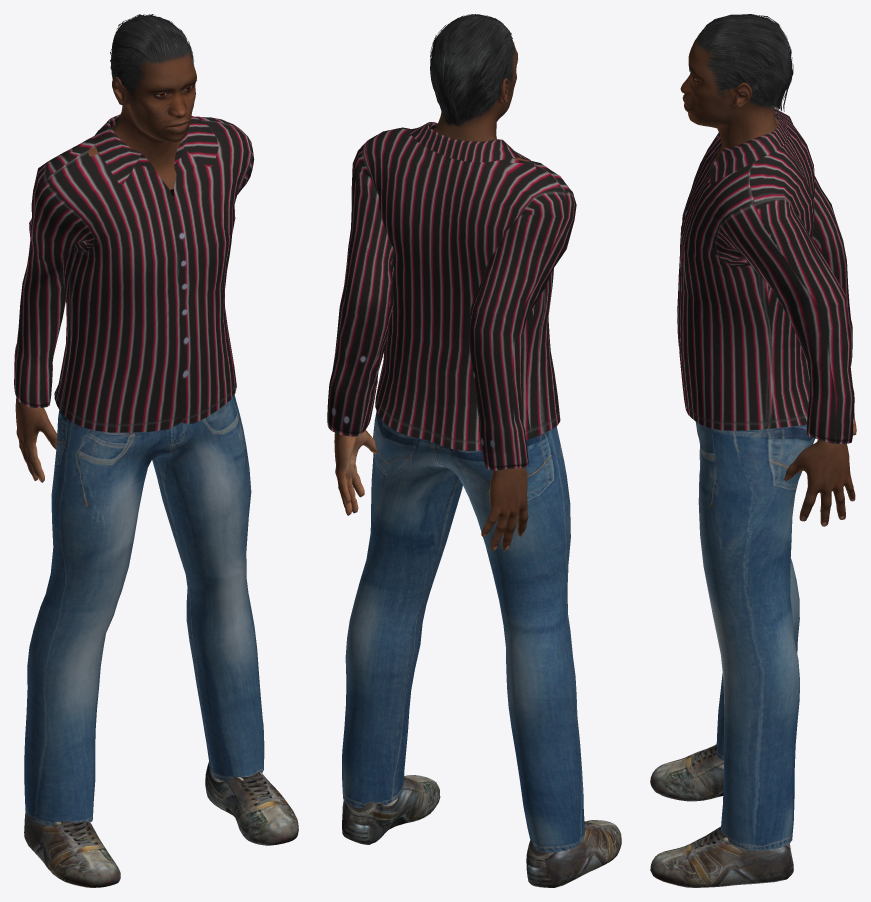
The model's file is civilian_man.glb.
3 renders of one model, left to right at view 1: azimuth 30°, elevation 25°; view 2: azimuth 150°, elevation 25°; view 3: azimuth 270°, elevation 25°, orthographic.
Parts seen in each view (by area): view 1: civilian_man.male_casualsuit03, civilian_man.body, civilian_man.shoes02, civilian_man.short04; view 2: civilian_man.male_casualsuit03, civilian_man.short04, civilian_man.shoes02, civilian_man.body; view 3: civilian_man.male_casualsuit03, civilian_man.body, civilian_man.shoes02, civilian_man.short04.
Part boxes in pixels (<box>): civilian_man.male_casualsuit03: <box>14,114,264,825</box>; civilian_man.body: <box>15,51,196,482</box>; civilian_man.shoes02: <box>24,762,298,887</box>; civilian_man.short04: <box>110,14,194,103</box>; civilian_man.male_casualsuit03: <box>327,122,584,852</box>; civilian_man.short04: <box>430,14,514,127</box>; civilian_man.shoes02: <box>342,775,621,887</box>; civilian_man.body: <box>334,40,530,551</box>; civilian_man.male_casualsuit03: <box>677,108,854,850</box>; civilian_man.body: <box>680,37,856,526</box>; civilian_man.shoes02: <box>650,744,793,887</box>; civilian_man.short04: <box>696,14,793,111</box>.
Bounding box in the file's own units: 0.551 × 1.82 × 0.4165.
Materials: 8 (8 with a texture image).
